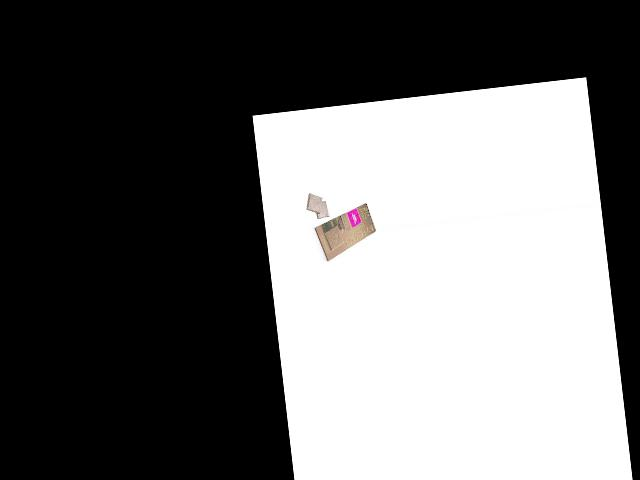chocolate: (310, 201, 379, 262)
